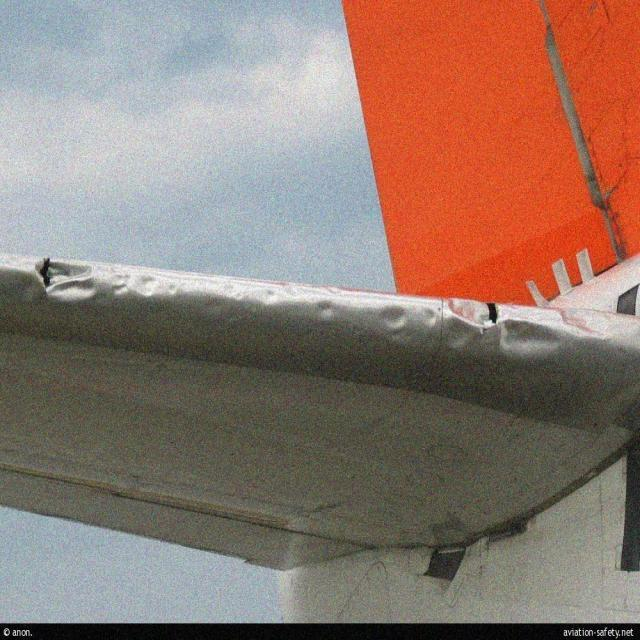dent: (34, 253, 98, 306), (497, 319, 562, 357), (226, 276, 297, 303), (560, 309, 612, 340), (451, 297, 502, 327), (446, 318, 473, 352), (377, 307, 409, 330), (137, 274, 162, 297), (115, 272, 131, 298), (321, 301, 336, 320)
